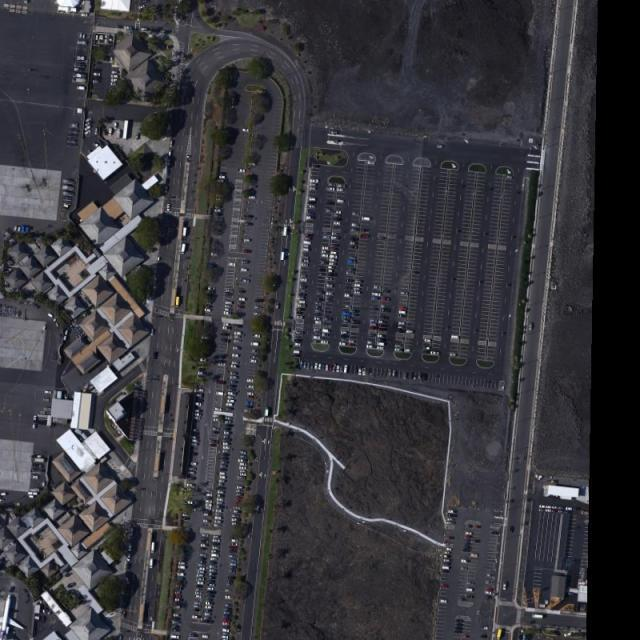vehicle: (496, 628, 503, 640), (348, 246, 358, 254), (430, 350, 441, 357), (182, 487, 194, 493), (283, 225, 289, 237), (200, 543, 210, 550), (461, 558, 471, 565), (242, 279, 252, 286), (171, 620, 182, 626), (563, 632, 574, 638), (510, 524, 516, 535), (302, 248, 313, 254), (531, 614, 544, 619), (281, 249, 286, 262), (274, 302, 282, 310), (441, 583, 450, 590), (447, 535, 456, 542), (239, 450, 248, 457), (175, 584, 185, 590), (443, 558, 453, 564), (348, 260, 358, 266), (341, 319, 351, 325), (224, 311, 234, 317), (151, 541, 155, 555), (331, 236, 342, 241), (371, 292, 382, 297), (351, 321, 362, 326), (346, 273, 357, 278), (184, 501, 195, 506), (398, 310, 407, 316), (377, 346, 386, 352), (466, 595, 475, 601), (337, 188, 346, 194), (471, 553, 480, 559), (486, 580, 495, 586), (484, 590, 493, 596), (208, 286, 217, 292), (204, 308, 213, 314), (189, 633, 199, 638), (225, 596, 235, 601), (224, 604, 234, 609), (175, 598, 185, 603), (170, 634, 180, 639), (228, 555, 238, 560), (380, 316, 390, 321), (382, 308, 392, 313), (379, 320, 389, 325), (394, 348, 404, 353), (371, 297, 381, 302), (338, 342, 348, 347), (342, 313, 352, 318), (502, 582, 507, 592), (250, 342, 260, 347), (221, 338, 231, 343), (186, 477, 196, 482), (187, 483, 197, 488), (314, 306, 324, 311), (413, 372, 418, 382), (244, 216, 254, 221), (367, 340, 375, 346), (466, 588, 474, 594), (439, 599, 447, 605), (352, 227, 360, 233), (326, 291, 334, 297), (482, 626, 490, 632), (191, 461, 199, 467), (150, 558, 154, 570), (226, 416, 234, 422), (223, 434, 231, 440), (246, 197, 258, 201), (241, 268, 249, 274), (216, 505, 225, 510), (213, 524, 222, 529), (174, 606, 183, 611), (192, 615, 201, 620), (205, 609, 214, 614), (206, 601, 215, 606), (213, 538, 222, 543), (213, 542, 222, 547), (394, 344, 403, 349), (377, 342, 386, 347), (369, 323, 378, 328), (447, 517, 456, 522), (370, 319, 379, 324), (121, 611, 126, 620), (351, 223, 360, 228), (352, 212, 361, 217), (373, 285, 382, 290), (361, 234, 370, 239), (361, 229, 370, 234), (345, 294, 354, 299), (345, 286, 354, 291), (346, 279, 355, 284), (461, 567, 470, 572), (225, 305, 234, 310), (234, 331, 243, 336), (234, 339, 243, 344), (233, 346, 242, 351), (195, 409, 204, 414), (226, 407, 235, 412), (199, 358, 208, 363), (214, 408, 223, 413), (226, 424, 235, 429), (222, 453, 231, 458), (349, 366, 354, 375), (312, 336, 321, 341), (248, 162, 257, 167), (215, 205, 224, 210), (293, 350, 302, 355), (243, 238, 252, 243), (238, 290, 247, 295), (302, 256, 311, 261), (130, 527, 134, 538), (266, 406, 270, 417), (315, 298, 326, 302), (244, 223, 255, 227), (424, 338, 431, 344), (539, 504, 546, 510), (202, 634, 210, 639), (222, 635, 230, 640), (228, 576, 236, 581), (198, 563, 206, 568), (204, 621, 214, 625), (182, 517, 190, 522), (206, 489, 214, 494), (234, 506, 242, 511), (196, 578, 206, 582), (195, 585, 205, 589), (178, 565, 186, 570), (207, 590, 217, 594), (230, 559, 238, 564), (230, 563, 238, 568), (210, 554, 220, 558), (126, 578, 131, 586), (383, 298, 393, 302), (379, 324, 389, 328), (378, 338, 386, 343), (371, 308, 381, 312), (459, 598, 467, 603), (447, 522, 457, 526), (448, 514, 458, 518), (448, 510, 458, 514), (330, 255, 338, 260), (330, 258, 338, 263), (329, 262, 337, 267), (328, 269, 336, 274), (326, 284, 334, 289), (338, 184, 346, 189), (474, 540, 482, 545), (466, 524, 474, 529), (325, 317, 333, 322), (238, 459, 246, 464), (216, 392, 226, 396), (246, 402, 254, 407), (240, 455, 248, 460), (240, 462, 248, 467), (230, 375, 238, 380), (228, 385, 238, 389), (231, 366, 241, 370), (218, 362, 226, 367), (222, 333, 230, 338), (226, 301, 234, 306), (223, 326, 233, 330), (227, 395, 235, 400), (192, 429, 200, 434), (191, 432, 201, 436), (190, 467, 198, 472), (213, 427, 221, 432), (222, 442, 232, 446), (222, 457, 230, 462), (219, 475, 227, 480), (328, 364, 333, 372), (314, 317, 322, 322), (314, 321, 322, 326), (313, 332, 321, 337), (226, 289, 234, 294), (322, 334, 330, 339), (318, 273, 326, 278), (322, 250, 330, 255), (321, 341, 329, 346), (214, 210, 224, 214), (243, 250, 253, 254), (229, 262, 237, 267), (255, 299, 265, 303), (296, 331, 304, 336), (302, 263, 310, 268), (224, 615, 233, 619), (222, 622, 231, 626), (222, 626, 231, 630), (214, 517, 223, 521), (214, 521, 223, 525), (200, 547, 209, 551), (200, 554, 209, 558), (199, 560, 208, 564), (217, 494, 226, 498), (128, 553, 132, 562), (231, 522, 240, 526), (202, 519, 211, 523), (236, 486, 245, 490), (235, 500, 244, 504), (232, 514, 241, 518), (193, 609, 202, 613), (204, 613, 213, 617), (194, 592, 203, 596), (212, 546, 221, 550), (211, 550, 220, 554), (209, 565, 218, 569), (209, 569, 218, 573), (406, 330, 415, 334), (398, 322, 407, 326), (383, 290, 392, 294), (442, 570, 451, 574), (444, 555, 453, 559), (331, 244, 340, 248), (337, 199, 346, 203), (334, 211, 343, 215), (352, 314, 361, 318), (353, 310, 362, 314), (340, 339, 349, 343), (481, 636, 490, 640), (486, 574, 495, 578), (243, 410, 252, 414), (231, 380, 240, 384), (228, 391, 237, 395), (234, 336, 243, 340), (201, 336, 210, 340), (226, 399, 235, 403), (194, 414, 203, 418), (224, 427, 233, 431), (224, 431, 233, 435), (222, 446, 231, 450), (222, 450, 231, 454), (322, 329, 331, 333), (318, 363, 322, 372), (345, 365, 349, 374), (340, 365, 344, 374), (333, 364, 337, 373), (369, 367, 373, 376), (303, 362, 307, 371), (388, 369, 392, 378), (317, 291, 326, 295), (318, 269, 327, 273), (319, 262, 328, 266), (306, 234, 315, 238), (418, 373, 422, 382), (403, 371, 407, 380), (250, 185, 259, 189), (254, 306, 263, 310), (294, 339, 303, 343), (303, 241, 312, 245), (308, 205, 317, 209), (198, 570, 205, 575), (218, 490, 225, 495), (207, 598, 214, 603), (230, 568, 237, 573), (446, 547, 453, 552), (332, 232, 339, 237), (331, 251, 338, 256), (350, 340, 357, 345), (522, 633, 527, 640), (476, 525, 483, 530), (466, 531, 473, 536), (189, 471, 196, 476), (314, 329, 321, 334), (302, 274, 309, 279), (222, 633, 230, 637), (225, 589, 233, 593), (224, 609, 232, 613), (224, 612, 232, 616), (223, 618, 231, 622), (222, 629, 230, 633), (226, 585, 234, 589), (227, 581, 235, 585), (215, 509, 223, 513), (215, 513, 223, 517), (231, 542, 239, 546), (230, 546, 238, 550), (230, 550, 238, 554), (202, 534, 210, 538), (217, 498, 225, 502), (202, 540, 210, 544), (198, 567, 206, 571), (197, 574, 205, 578), (206, 503, 214, 507), (236, 490, 244, 494), (234, 510, 242, 514), (198, 582, 206, 586), (174, 591, 182, 595), (205, 606, 213, 610), (194, 602, 202, 606), (194, 605, 202, 609), (178, 562, 186, 566), (178, 574, 186, 578), (174, 614, 182, 618), (210, 558, 218, 562), (210, 562, 218, 566), (128, 544, 132, 552), (398, 326, 406, 330), (399, 315, 407, 319), (380, 328, 388, 332), (366, 346, 374, 350), (370, 334, 378, 338), (442, 566, 450, 570), (350, 238, 358, 242), (334, 214, 342, 218), (334, 222, 342, 226), (331, 247, 339, 251), (328, 266, 336, 270), (329, 274, 337, 278), (350, 242, 358, 246), (354, 284, 362, 288), (354, 291, 362, 295), (349, 268, 357, 272), (566, 508, 574, 512), (492, 532, 500, 536), (246, 386, 254, 390), (232, 362, 240, 366), (230, 372, 238, 376), (229, 388, 237, 392), (238, 306, 246, 310), (237, 314, 245, 318), (225, 308, 233, 312), (233, 354, 241, 358), (253, 334, 261, 338), (226, 403, 234, 407), (191, 440, 199, 444), (198, 371, 206, 375), (197, 389, 205, 393), (195, 403, 203, 407), (127, 562, 131, 570), (225, 421, 233, 425), (213, 430, 221, 434), (224, 439, 232, 443), (222, 462, 230, 466), (221, 465, 229, 469), (238, 298, 246, 302), (225, 295, 233, 299), (358, 367, 362, 375), (322, 364, 326, 372), (314, 363, 318, 371), (310, 363, 314, 371), (314, 310, 322, 314), (314, 314, 322, 318), (306, 238, 314, 242), (322, 246, 330, 250), (392, 370, 396, 378), (322, 232, 330, 236), (322, 236, 330, 240), (326, 202, 334, 206), (313, 340, 321, 344), (211, 253, 219, 257), (242, 261, 250, 265), (309, 198, 317, 202), (294, 343, 302, 347), (296, 316, 304, 320), (297, 312, 305, 316), (298, 305, 306, 309), (300, 294, 308, 298), (300, 286, 308, 290), (303, 259, 311, 263), (303, 245, 311, 249), (306, 217, 314, 221), (118, 634, 123, 640), (507, 175, 513, 180), (457, 623, 463, 628), (456, 620, 466, 623), (231, 539, 238, 543), (232, 518, 239, 522), (205, 617, 212, 621), (196, 595, 203, 599), (210, 576, 217, 580), (378, 334, 385, 338), (463, 634, 470, 638), (546, 506, 553, 510), (247, 392, 254, 396), (238, 302, 245, 306), (206, 305, 213, 309), (253, 313, 260, 317), (195, 394, 202, 398), (192, 443, 199, 447), (210, 444, 217, 448), (212, 441, 219, 445), (214, 418, 221, 422), (221, 469, 228, 473), (325, 365, 329, 372), (362, 368, 366, 375), (322, 254, 329, 258), (326, 210, 333, 214), (328, 187, 335, 191), (310, 187, 317, 191), (299, 300, 306, 304), (300, 290, 307, 294), (301, 279, 308, 283), (218, 487, 227, 490), (236, 494, 245, 497), (195, 589, 204, 592), (172, 626, 181, 629), (207, 595, 216, 598), (340, 331, 349, 334), (249, 360, 258, 363), (246, 379, 255, 382), (238, 477, 247, 480), (251, 356, 260, 359), (307, 362, 310, 371), (529, 323, 532, 332), (213, 535, 221, 538), (201, 538, 209, 541), (182, 514, 190, 517), (206, 494, 214, 497), (178, 570, 186, 573), (176, 595, 184, 598), (208, 584, 216, 587), (398, 330, 406, 333), (467, 582, 475, 585), (455, 631, 463, 634), (456, 628, 464, 631), (326, 278, 334, 281), (355, 281, 363, 284), (354, 288, 362, 291), (553, 506, 559, 510), (326, 300, 334, 303), (239, 467, 247, 470), (241, 470, 247, 474), (191, 436, 199, 439), (219, 480, 227, 483), (219, 473, 227, 476), (354, 366, 357, 374), (300, 362, 303, 370), (328, 183, 336, 186), (310, 183, 318, 186), (298, 309, 306, 312), (217, 502, 224, 505), (206, 507, 213, 510), (218, 483, 225, 486), (204, 514, 211, 517), (173, 630, 180, 633), (210, 573, 217, 576), (207, 587, 214, 590), (405, 350, 412, 353), (546, 510, 553, 513), (539, 509, 546, 512), (240, 474, 247, 477), (251, 350, 258, 353), (194, 418, 201, 421), (337, 366, 340, 373), (236, 498, 245, 500), (327, 297, 333, 300), (205, 501, 213, 503), (559, 507, 563, 511), (208, 580, 215, 582), (230, 572, 236, 574), (518, 639, 521, 640)
